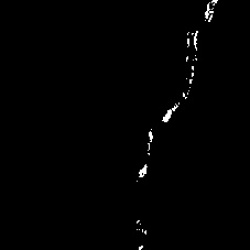crack: (163, 53, 196, 123), (204, 2, 219, 22), (186, 31, 198, 49), (137, 164, 147, 179), (137, 221, 147, 235), (148, 127, 153, 148), (138, 245, 145, 248), (186, 56, 189, 60)
